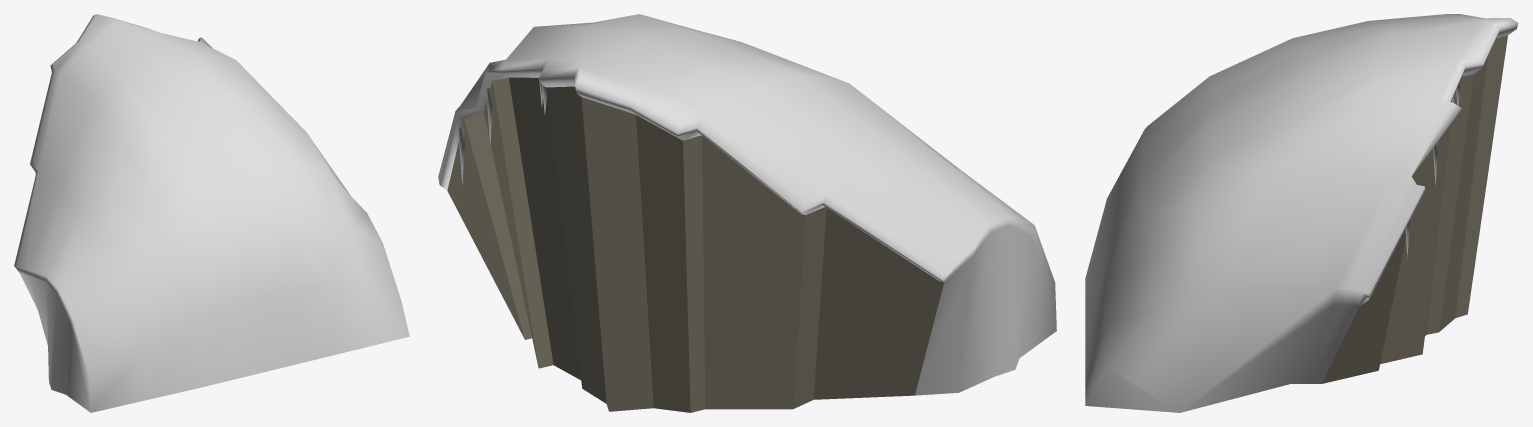
Rendered from Cliff.fbx.
The picture shows the model from 3 angles, left to right: view 1: azimuth 30°, elevation 25°; view 2: azimuth 150°, elevation 25°; view 3: azimuth 270°, elevation 25°; orthographic projection. The views are drawn at different scales.
Visible parts, largest first — view 1: polySurface45; view 2: polySurface45; view 3: polySurface45.
Part boxes in pixels (bbox=[...]): polySurface45: bbox=[14, 14, 409, 412]; polySurface45: bbox=[438, 14, 1056, 412]; polySurface45: bbox=[1085, 14, 1518, 412].
Size of the model in its own units: 1423 by 1063 by 1297.
